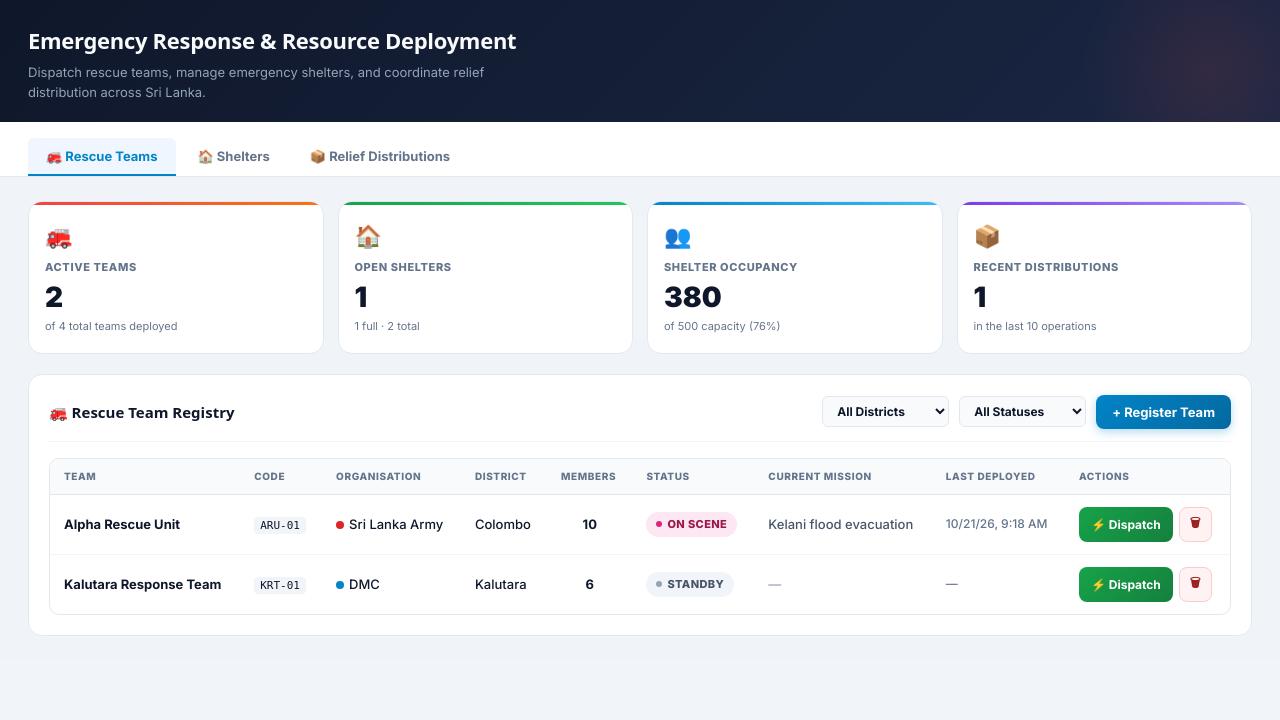
EmergencyCoordinationDashboard – Tab Navigation › TC-EC-05: Clicking Shelters tab shows shelter data
Check: the text "Alpha Rescue Unit" is shown, box [50, 494, 240, 554]
Click the button "🏠 Shelters": (234, 157) [180, 138, 288, 176]
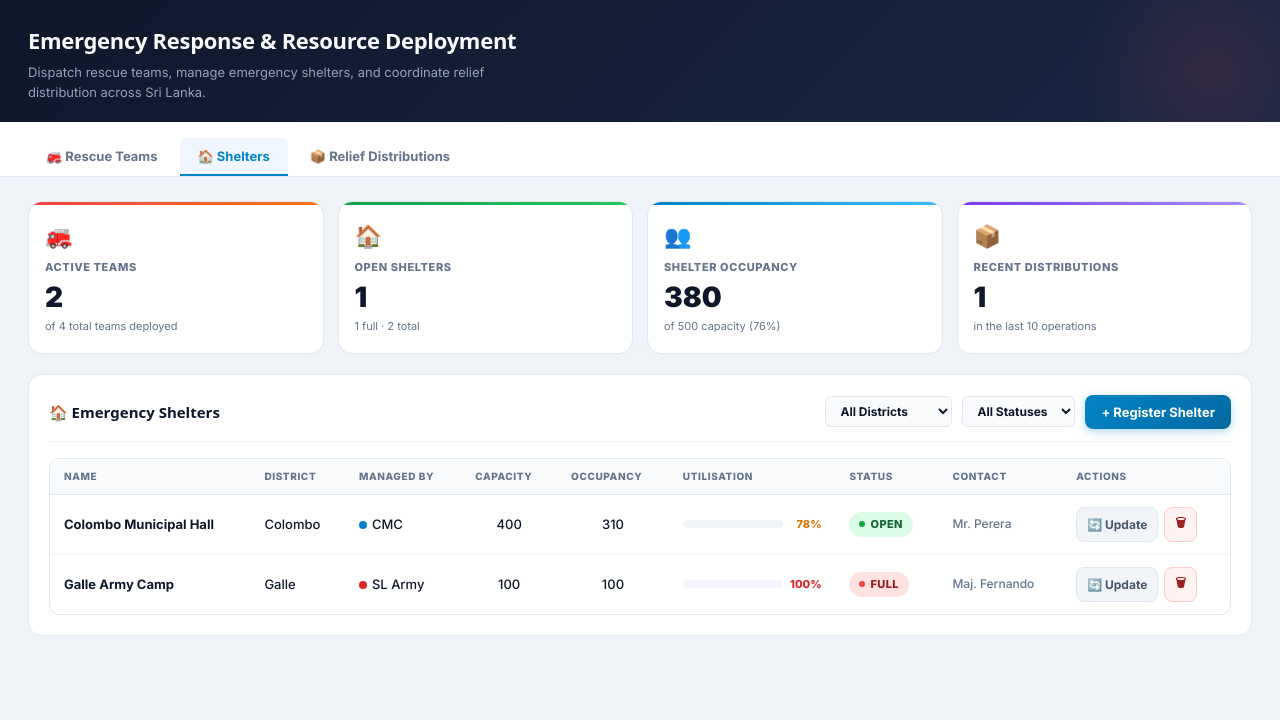
Check: the text "Colombo Municipal Hall" is shown, box [50, 494, 250, 554]
Check: the text "Galle Army Camp" is shown, box [50, 554, 250, 614]
